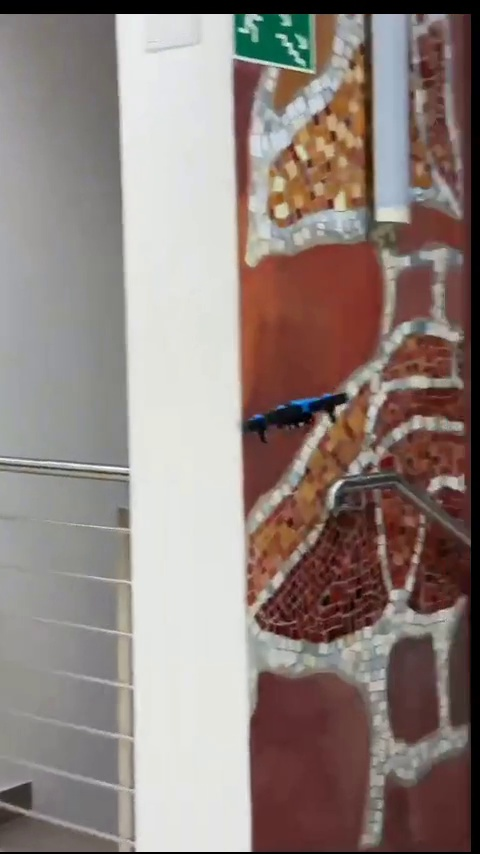drone: (242, 394, 355, 440)
